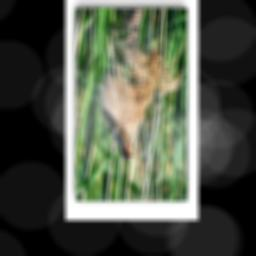Swallow: (97, 102, 135, 162)
